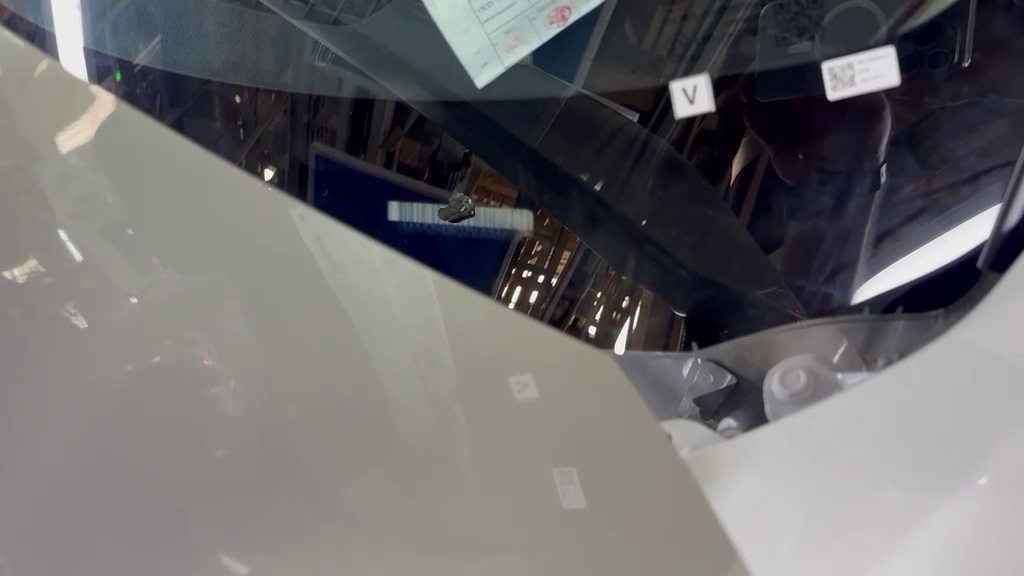hinge: (383, 191, 551, 253)
